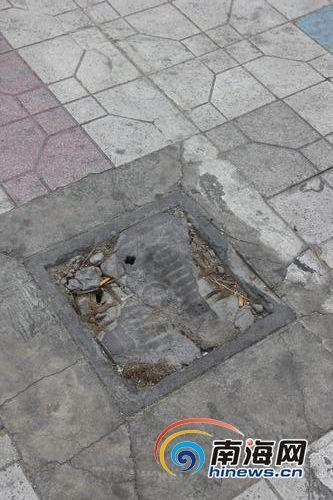broke: (21, 183, 310, 410)
